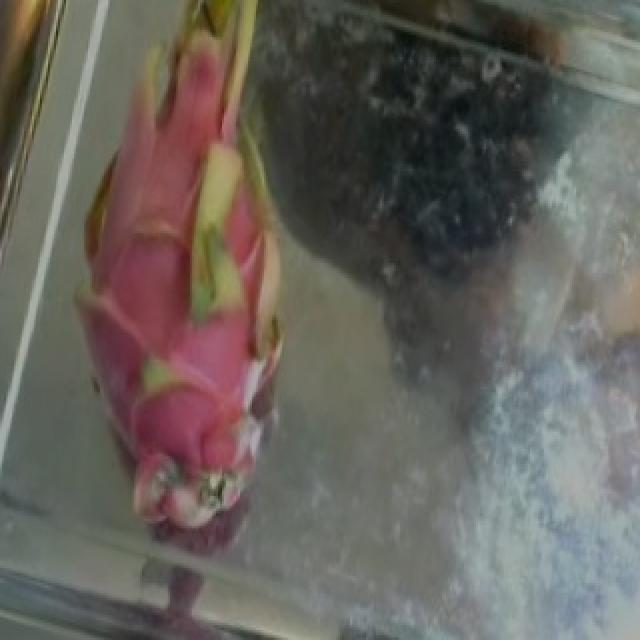fruit: (0, 3, 344, 419)
